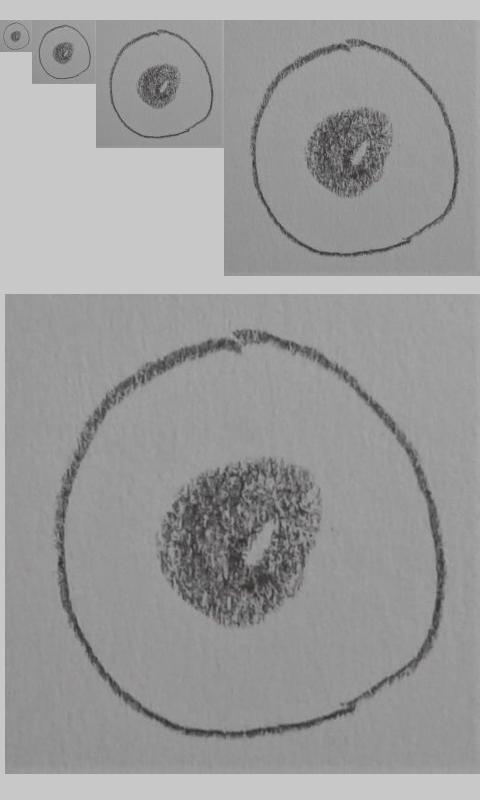radio_button: (55, 331, 447, 741), (250, 37, 459, 258), (107, 28, 215, 140), (38, 24, 92, 80), (2, 21, 31, 51)
